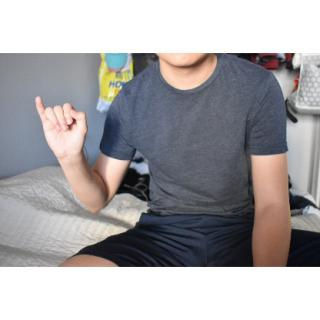MEEM: (32, 94, 92, 166)
